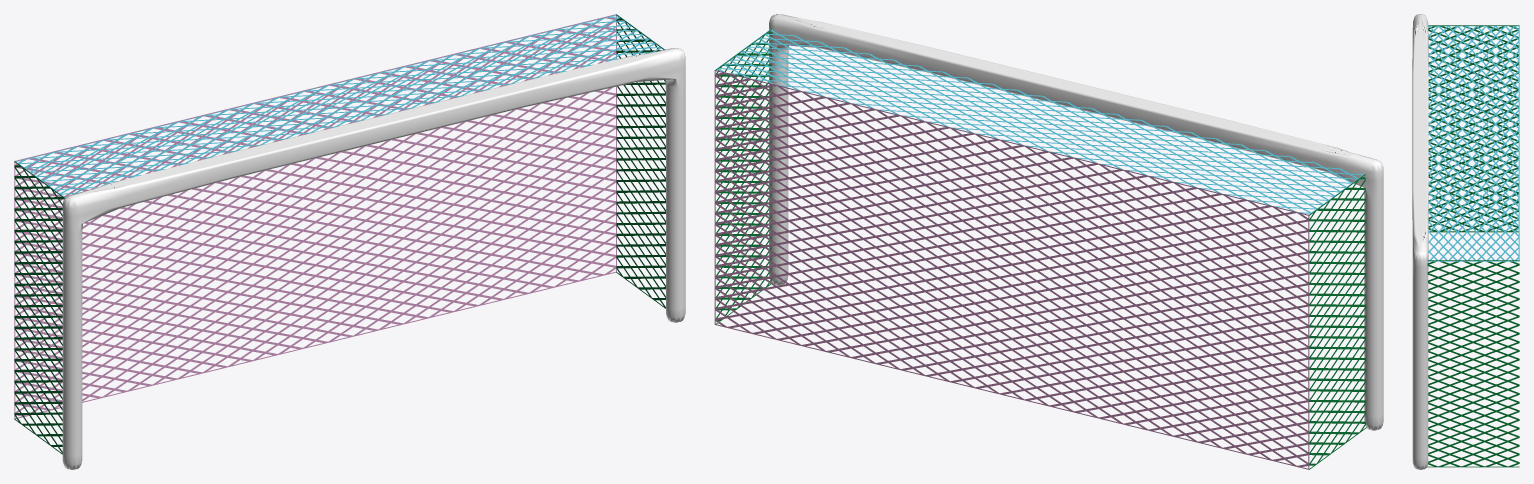
File: Goal 3.obj
The picture shows the model from 3 angles, left to right: view 1: azimuth 30°, elevation 25°; view 2: azimuth 150°, elevation 25°; view 3: azimuth 270°, elevation 25°; orthographic projection. The views are drawn at different scales.
Visible parts, largest first — view 1: Plane001, Cylinder002, Plane003, Plane002; view 2: Plane001, Cylinder002, Plane003, Plane002; view 3: Plane002, Plane003, Cylinder002.
Part boxes in pixels (x1,y1,x2,y2): Plane001: (14, 14, 616, 418); Cylinder002: (62, 48, 685, 469); Plane003: (15, 14, 664, 197); Plane002: (14, 14, 665, 454); Plane001: (714, 70, 1309, 469); Cylinder002: (769, 14, 1383, 430); Plane003: (715, 29, 1364, 214); Plane002: (716, 29, 1366, 469); Plane002: (1427, 25, 1519, 467); Plane003: (1427, 26, 1519, 261); Cylinder002: (1412, 14, 1428, 469).
Bounding box in the file's own units: 227 × 95.54 × 42.4.
